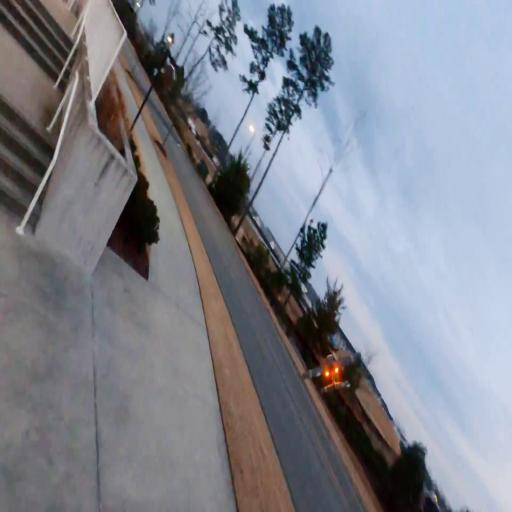uav: (298, 346, 362, 397)
